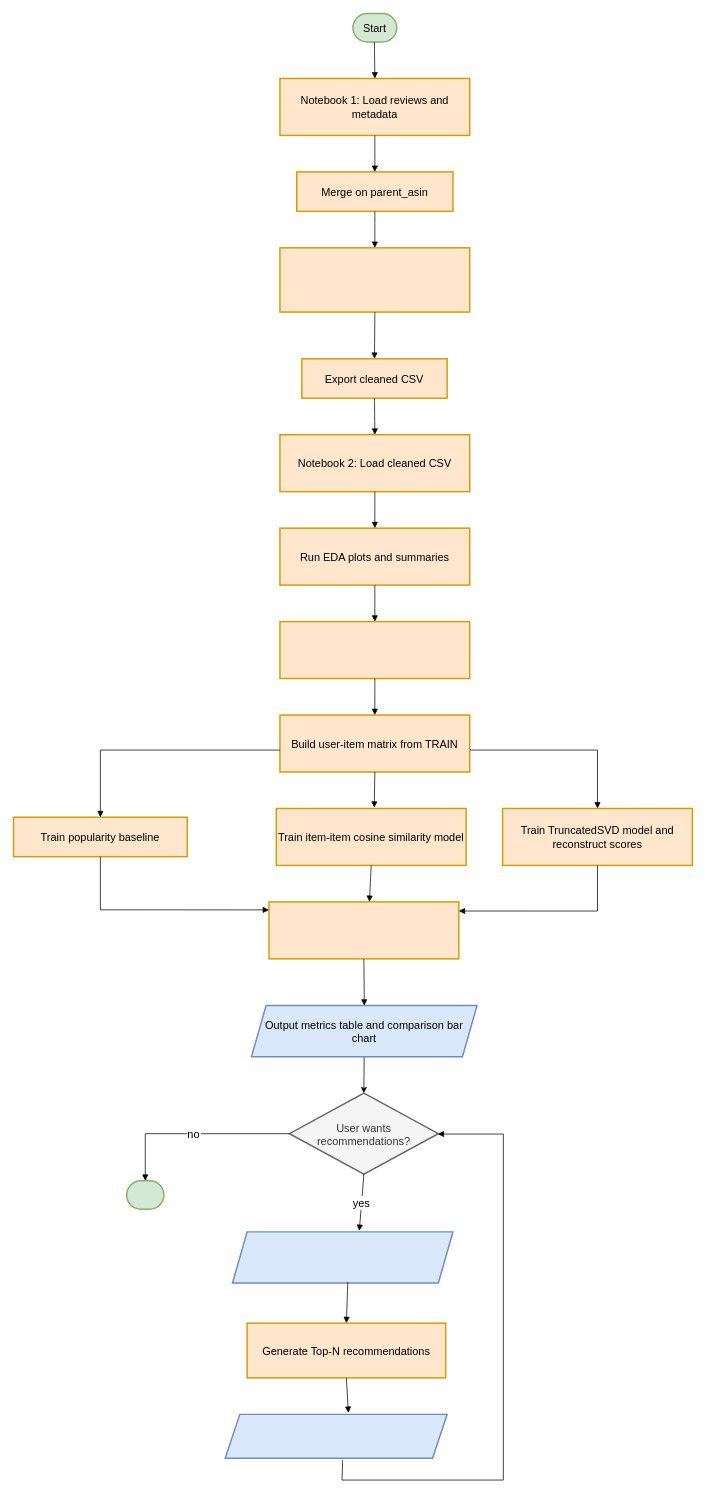
Some shapes in this 705 by 1499 pixel diagram are drawn without their labels. The shapes that lost their labels are listed below. From the top down, each one's box as (x1, y1, x2, y2) in pixels, then its label:
(279, 247, 470, 312): Clean data: drop missing, drop duplicates, filter min interactions
(279, 620, 470, 679): Time-aware split into TRAIN and TEST
(268, 901, 459, 959): Evaluate using Precision at K, Recall at K, NDCG at K
(126, 1180, 164, 1210): End
(231, 1231, 453, 1283): Input: choose method and enter user_id
(224, 1413, 447, 1459): Output: map ASIN to title and print results
